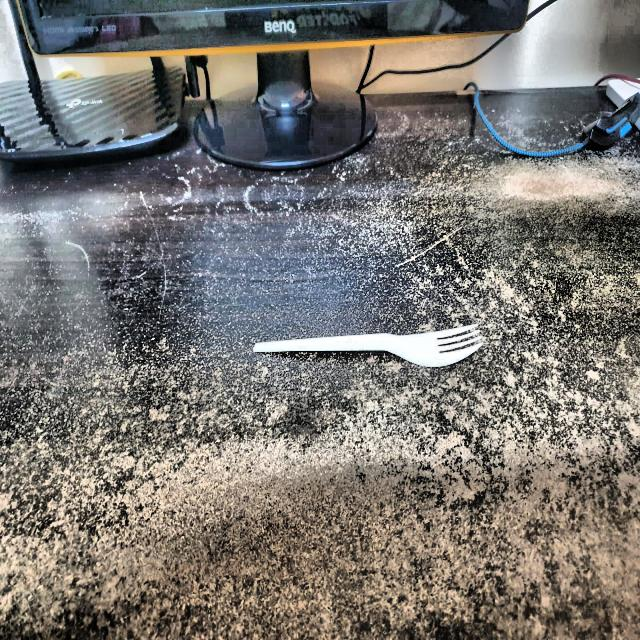plastic utensil: (247, 330, 494, 367)
